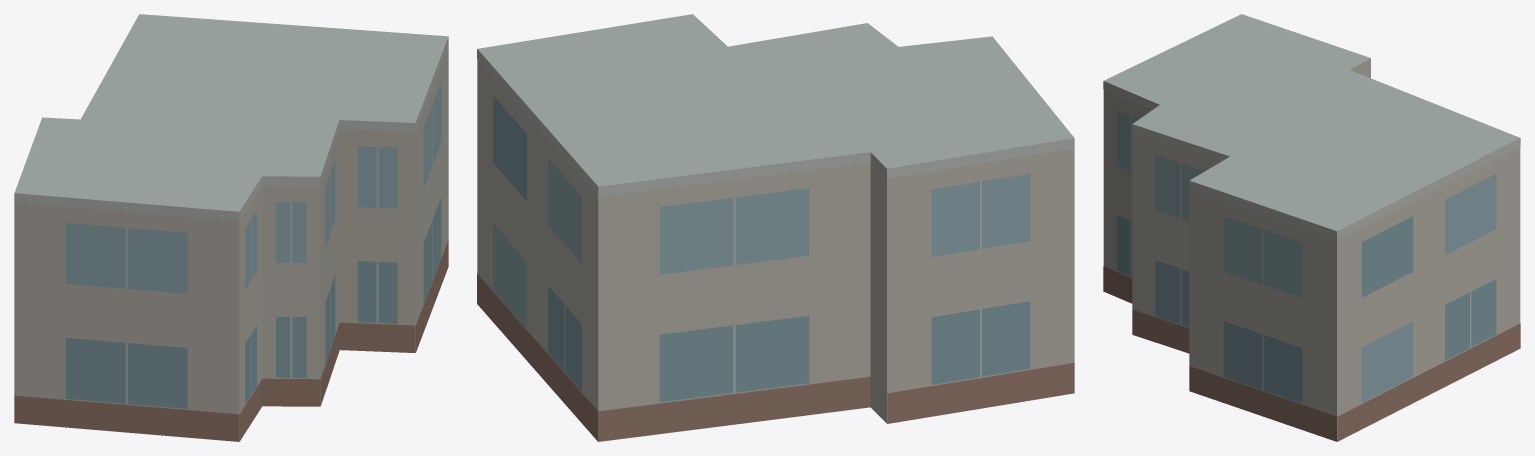
The model's file is survey-upis-32893193.glb.
3 renders of one model, left to right at view 1: azimuth 30°, elevation 25°; view 2: azimuth 150°, elevation 25°; view 3: azimuth 270°, elevation 25°, orthographic. The views are drawn at different scales.
Visible parts, largest first — view 1: survey-upis-32893193.tmp; view 2: survey-upis-32893193.tmp; view 3: survey-upis-32893193.tmp.
Boxes of the visible parts, x1,y1,x2,y2 form: survey-upis-32893193.tmp: [14, 14, 448, 441]; survey-upis-32893193.tmp: [477, 14, 1074, 441]; survey-upis-32893193.tmp: [1103, 14, 1520, 441].
Bounding box in the file's own units: 13.51 × 6.1 × 10.96.
